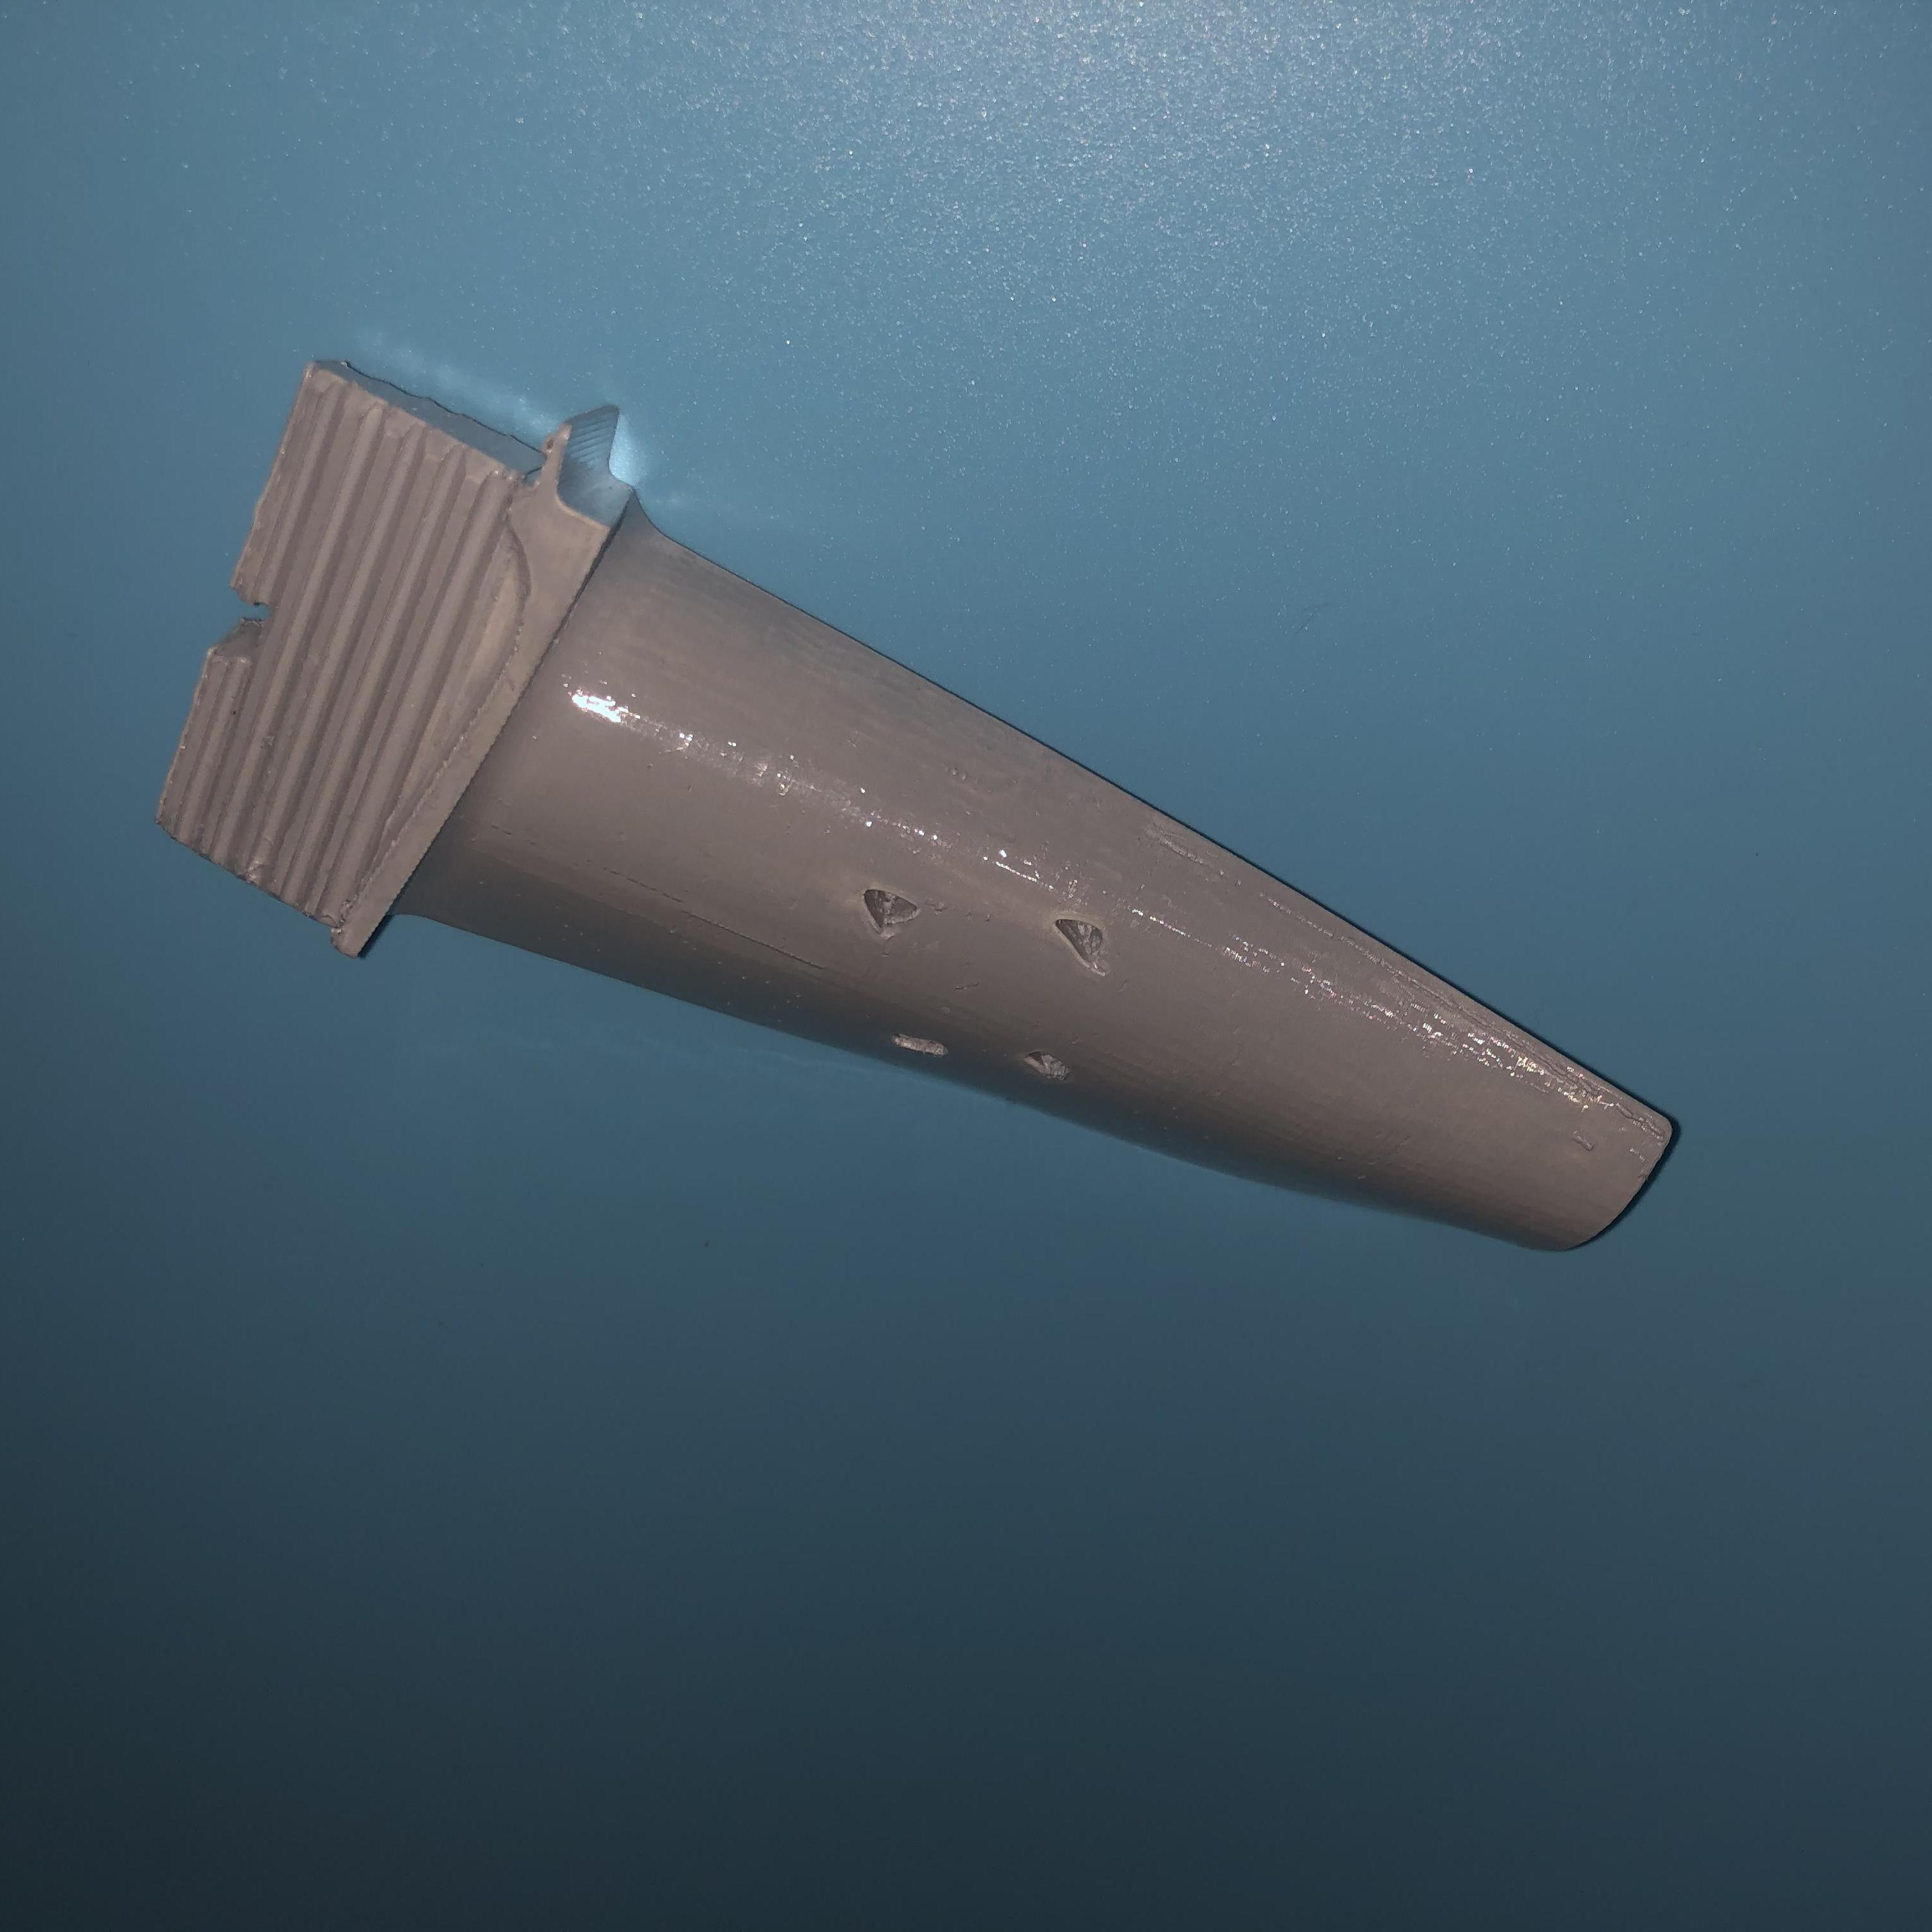breakdown: (855, 869, 1113, 1099)
